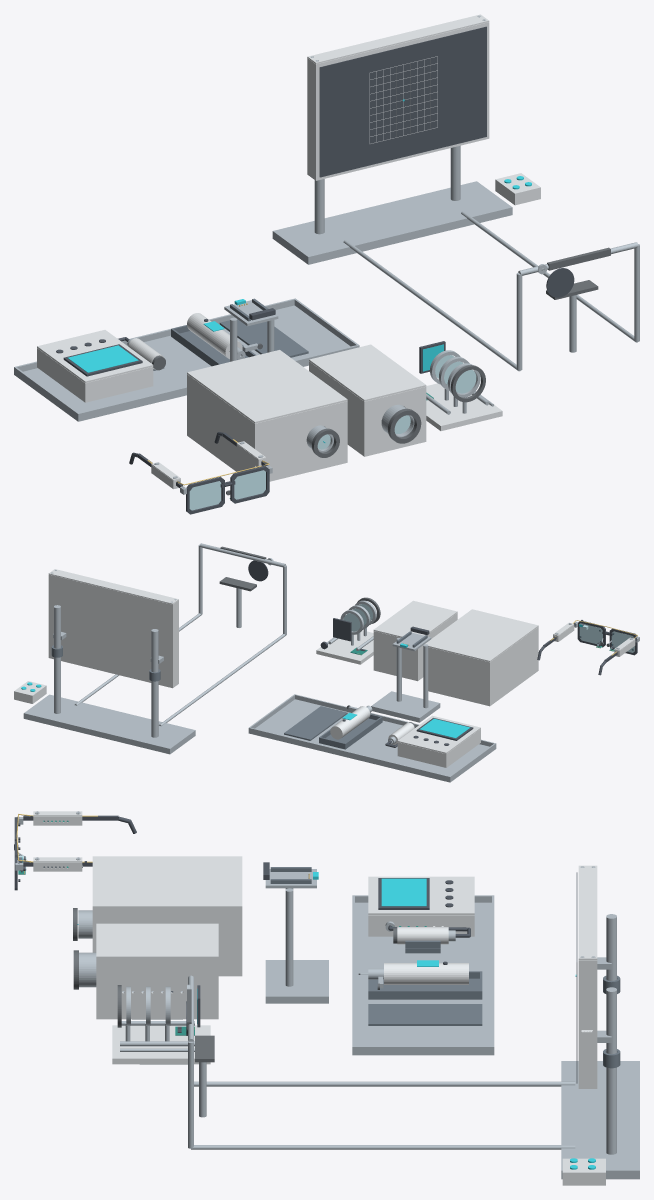
File: HaloCrew_VisionGuard_Web.glb
3 views of the same model, one above another, from view 1: azimuth 30°, elevation 25°; view 2: azimuth 150°, elevation 25°; view 3: azimuth 270°, elevation 25° (orthographic). The views are drawn at different scales.
Visible parts, largest first — view 1: VisualStation_TestDisplay, VisualStation_Base, Clinical_InstrumentTray, OCT_ConceptHousing, OCT_ConceptHousing_RemovableCover, Fundus_Housing, Fundus_Housing_RemovableCover, VisualStation_DisplayHousing, Ultrasound_Console, Ultrasound_Console_RemovableCover, Refraction_Base, VisualStation_DisplayHousing_RemovableCover (+9 smaller); view 2: VisualStation_DisplayHousing, Clinical_InstrumentTray, OCT_ConceptHousing, VisualStation_Base, OCT_ConceptHousing_RemovableCover, Fundus_Housing, Fundus_Housing_RemovableCover, Common_ExaminationMountBase, Ultrasound_Console, Tonometer_CaseLid, Ultrasound_Console_RemovableCover, Refraction_Base (+12 smaller); view 3: Clinical_InstrumentTray, OCT_ConceptHousing_RemovableCover, VisualStation_Base, Fundus_Housing, Fundus_Housing_RemovableCover, OCT_ConceptHousing, Common_ExaminationMountBase, VisualStation_DisplayHousing, Tonometer_CaseLid, Ultrasound_Console_RemovableCover, Refraction_Base, VisualStation_DistanceRail__1 (+15 smaller).
Part boxes in pixels (x1,y1,x2,y2): VisualStation_TestDisplay: [319, 26, 486, 177]; VisualStation_Base: [272, 181, 512, 264]; Clinical_InstrumentTray: [14, 298, 359, 421]; OCT_ConceptHousing: [187, 374, 347, 481]; OCT_ConceptHousing_RemovableCover: [187, 350, 347, 423]; Fundus_Housing: [309, 361, 426, 456]; Fundus_Housing_RemovableCover: [309, 344, 426, 401]; VisualStation_DisplayHousing: [307, 22, 489, 180]; Ultrasound_Console: [37, 348, 153, 402]; Ultrasound_Console_RemovableCover: [37, 330, 153, 382]; Refraction_Base: [426, 383, 502, 430]; VisualStation_DisplayHousing_RemovableCover: [307, 14, 489, 63]; VisualStation_DisplayHousing: [48, 574, 178, 688]; Clinical_InstrumentTray: [248, 694, 496, 782]; OCT_ConceptHousing: [428, 627, 538, 706]; VisualStation_Base: [23, 694, 195, 754]; OCT_ConceptHousing_RemovableCover: [424, 609, 538, 661]; Fundus_Housing: [373, 613, 457, 681]; Fundus_Housing_RemovableCover: [373, 600, 457, 637]; Common_ExaminationMountBase: [371, 691, 440, 722]; Ultrasound_Console: [397, 729, 480, 767]; Tonometer_CaseLid: [284, 706, 347, 740]; Ultrasound_Console_RemovableCover: [397, 715, 480, 753]; Refraction_Base: [316, 630, 373, 664]; Clinical_InstrumentTray: [352, 895, 494, 1055]; OCT_ConceptHousing_RemovableCover: [92, 856, 242, 908]; VisualStation_Base: [561, 1061, 639, 1179]; Fundus_Housing: [96, 958, 218, 1019]; Fundus_Housing_RemovableCover: [96, 923, 218, 958]; OCT_ConceptHousing: [92, 908, 242, 976]; Common_ExaminationMountBase: [265, 960, 328, 1003]; VisualStation_DisplayHousing: [578, 960, 597, 1088]; Tonometer_CaseLid: [368, 1004, 482, 1025]; Ultrasound_Console_RemovableCover: [368, 876, 474, 914]; Refraction_Base: [112, 1025, 210, 1064]; VisualStation_DistanceRail__1: [194, 1081, 575, 1086].
Size of the model in its own units: 0.982 by 0.3104 by 0.7947.
